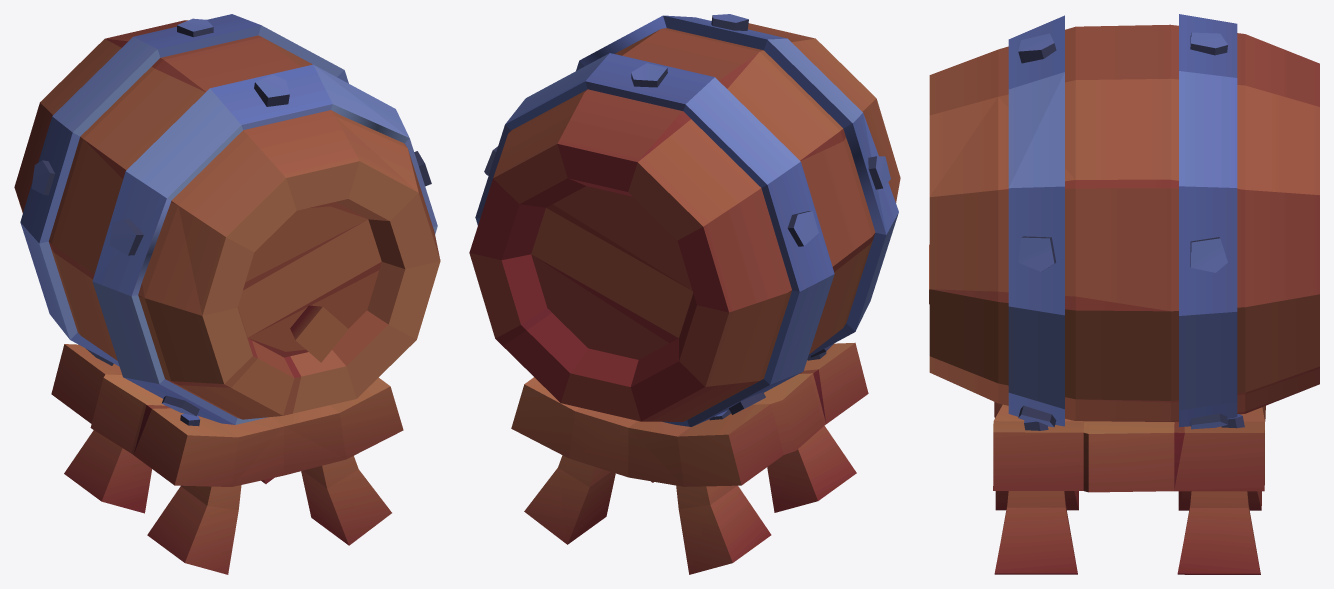
The model's file is beer_barrel.glb.
3 views of the same model, side by side, from view 1: azimuth 30°, elevation 25°; view 2: azimuth 150°, elevation 25°; view 3: azimuth 270°, elevation 25° (orthographic). The views are drawn at different scales.
Parts seen in each view (by area): view 1: beer_barrel; view 2: beer_barrel; view 3: beer_barrel.
Boxes of the visible parts, x1,y1,x2,y2 form: beer_barrel: (14, 14, 440, 574); beer_barrel: (469, 14, 900, 574); beer_barrel: (929, 14, 1319, 574).
Bounding box in the file's own units: 1.12 × 1.48 × 1.03.
1 material, 1 textured.
